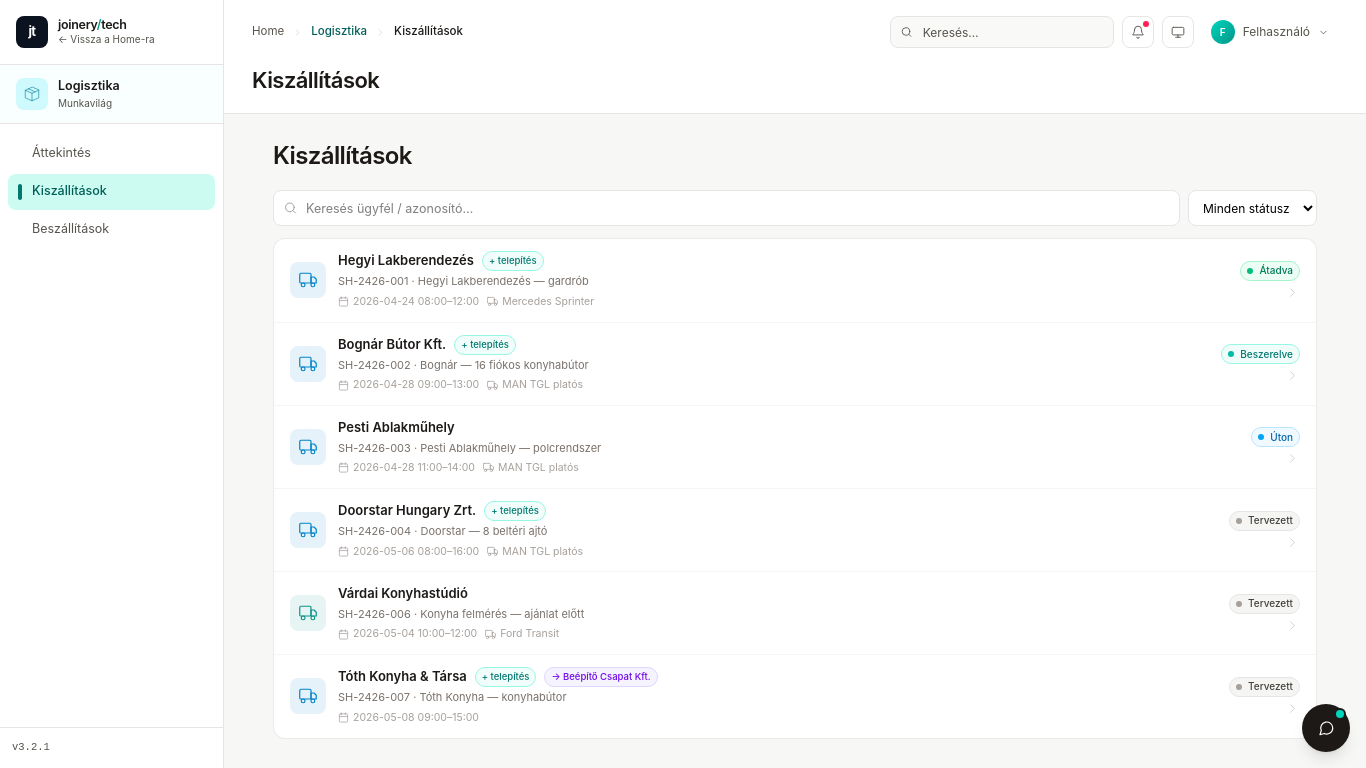
Test case: LogisticsPage › shipment detail shows deficiency
Step 1. Click the text "Bognár Bútor Kft." → coordinates (392, 345), box [338,335,446,354]
(page scrolled)
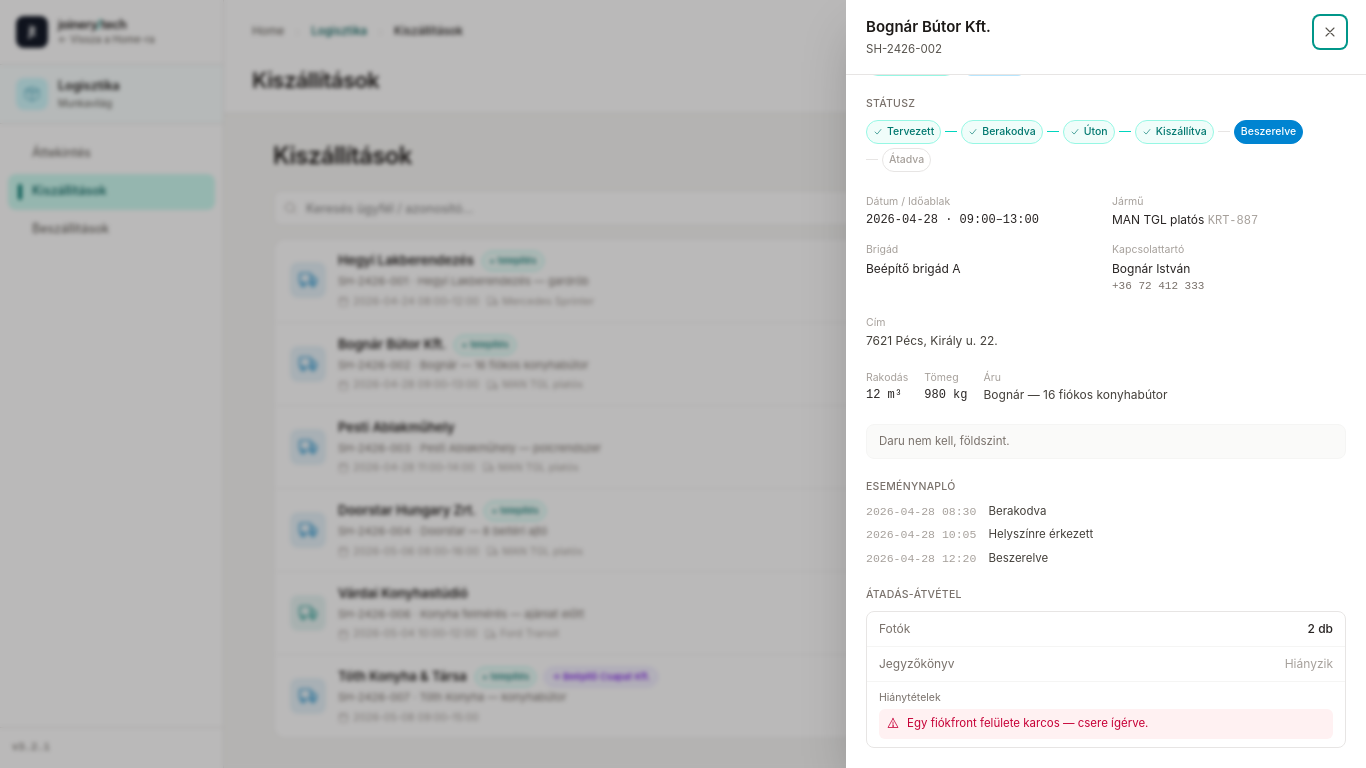
Result: the text "Egy fiókfront felülete karcos — csere ígérve." is shown at [879,709,1333,739]
